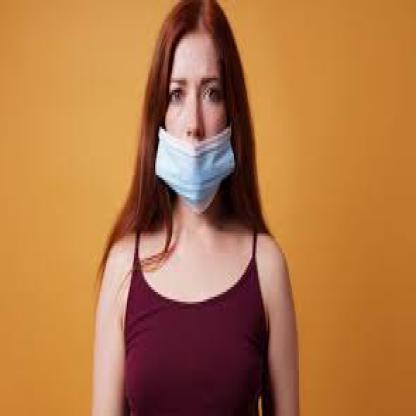mask_weared_incorrect: (153, 34, 239, 219)
